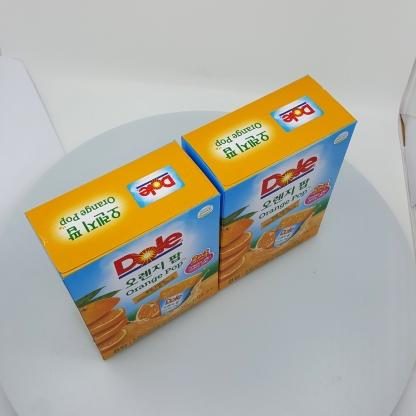--------496ML: (24, 140, 221, 361), (181, 74, 358, 291)
